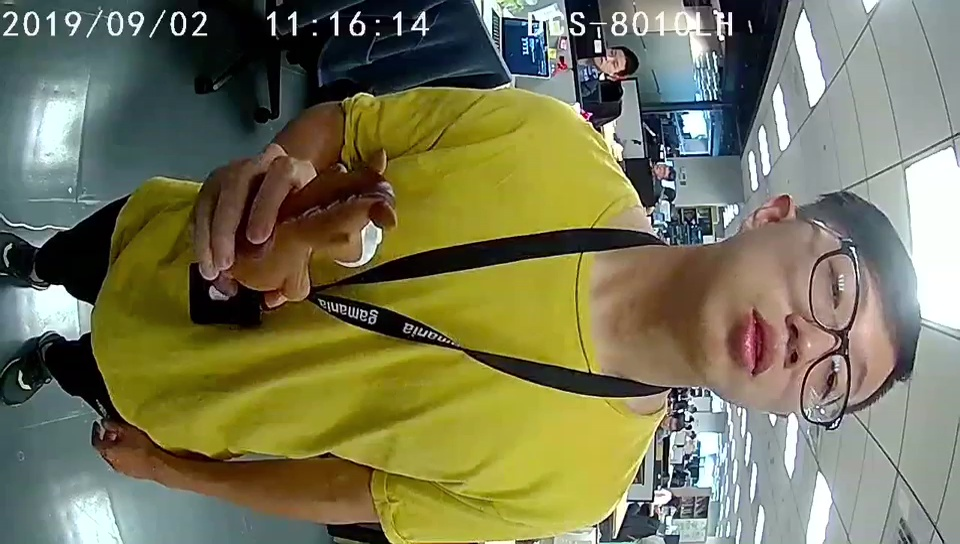horse: (288, 150, 401, 295)
